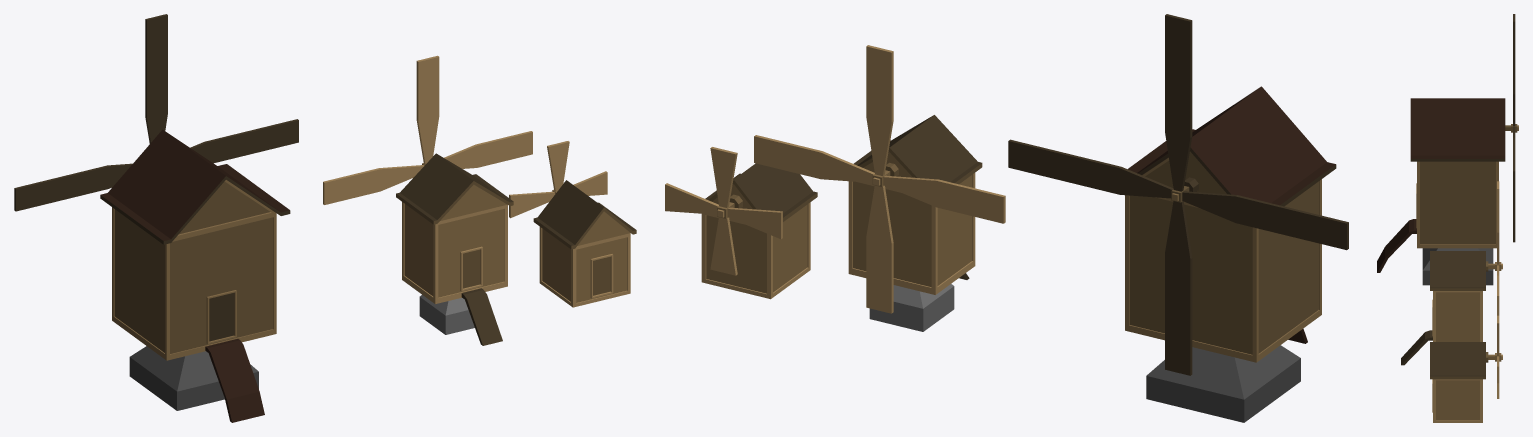
The model's file is Mills.fbx.
The picture shows the model from 3 angles, left to right: view 1: azimuth 30°, elevation 25°; view 2: azimuth 150°, elevation 25°; view 3: azimuth 270°, elevation 25°; orthographic projection. The views are drawn at different scales.
Parts seen in each view (by area): view 1: Mill LVL1.002, Mill LVL1.001, Mill LVL1, P1.002, P1.001, P1; view 2: Mill LVL1.002, P1.002, Mill LVL1.001, P1.001, Mill LVL1, P1; view 3: Mill LVL1.002, Mill LVL1.001, Mill LVL1, P1.002, P1.001, P1.
Boxes of the visible parts, left/top/right/bottom form: Mill LVL1.002: left=100, top=129, right=290, bottom=422; Mill LVL1.001: left=396, top=153, right=513, bottom=345; Mill LVL1: left=533, top=180, right=636, bottom=307; P1.002: left=14, top=14, right=298, bottom=211; P1.001: left=323, top=55, right=532, bottom=204; P1: left=509, top=141, right=607, bottom=218; Mill LVL1.002: left=1125, top=86, right=1336, bottom=422; P1.002: left=1008, top=14, right=1348, bottom=375; Mill LVL1.001: left=848, top=115, right=982, bottom=331; P1.001: left=754, top=45, right=1005, bottom=313; Mill LVL1: left=701, top=163, right=817, bottom=299; P1: left=665, top=147, right=782, bottom=275; Mill LVL1.002: left=1377, top=98, right=1505, bottom=285; Mill LVL1.001: left=1401, top=251, right=1485, bottom=365; Mill LVL1: left=1430, top=342, right=1485, bottom=422; P1.002: left=1505, top=14, right=1518, bottom=242; P1.001: left=1486, top=181, right=1502, bottom=315; P1: left=1486, top=315, right=1502, bottom=398.
Size of the model in its own units: 3121 by 1741 by 886.
